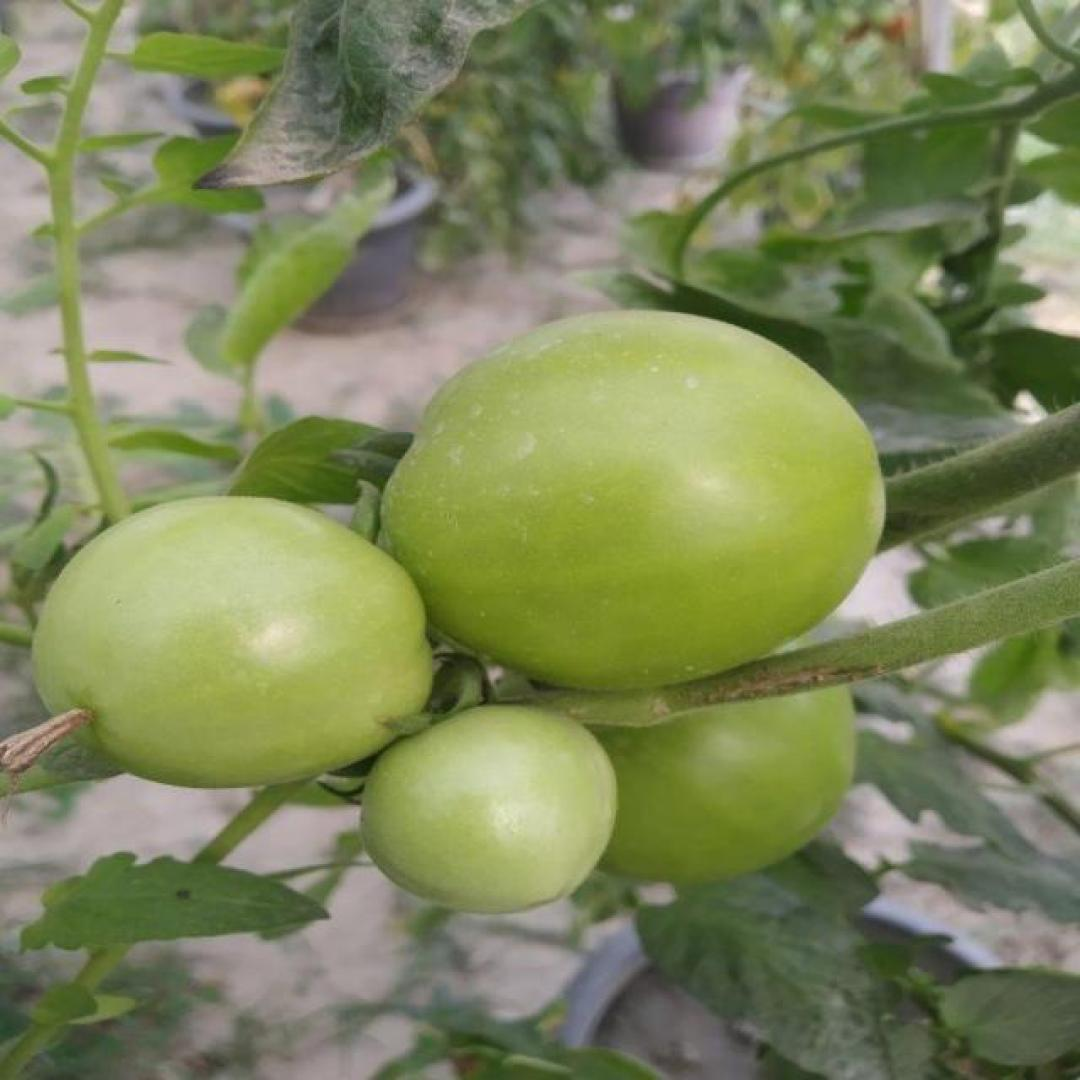mentah: (377, 305, 890, 692), (26, 493, 436, 793), (353, 700, 621, 916)
